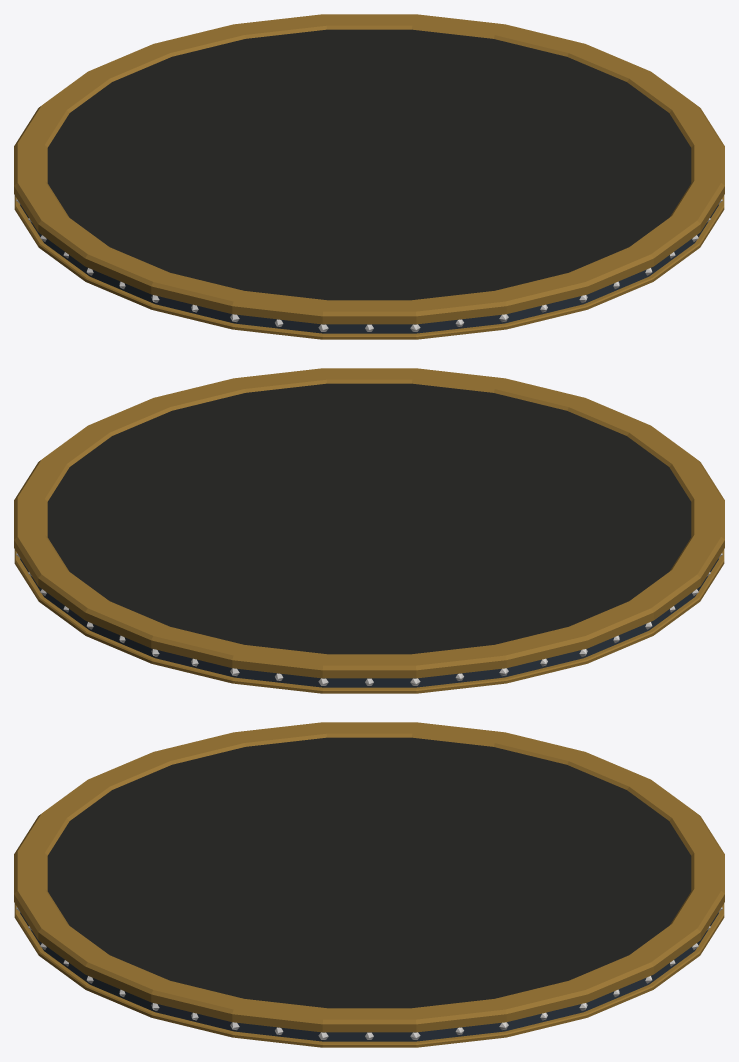
The model's file is prize-car-turntable-683ae8.glb.
3 renders of one model, top to bottom at view 1: azimuth 30°, elevation 25°; view 2: azimuth 150°, elevation 25°; view 3: azimuth 270°, elevation 25°, orthographic.
Visible parts, largest first — view 1: platter, foot-ring; view 2: platter, foot-ring; view 3: platter, foot-ring.
Boxes of the visible parts, x1,y1,x2,y2 form: platter: (14, 14, 724, 333); foot-ring: (14, 195, 724, 339); platter: (14, 368, 724, 687); foot-ring: (14, 549, 724, 693); platter: (14, 722, 724, 1041); foot-ring: (14, 903, 724, 1047).
Bounding box in the file's own units: 6 × 0.25 × 6.
